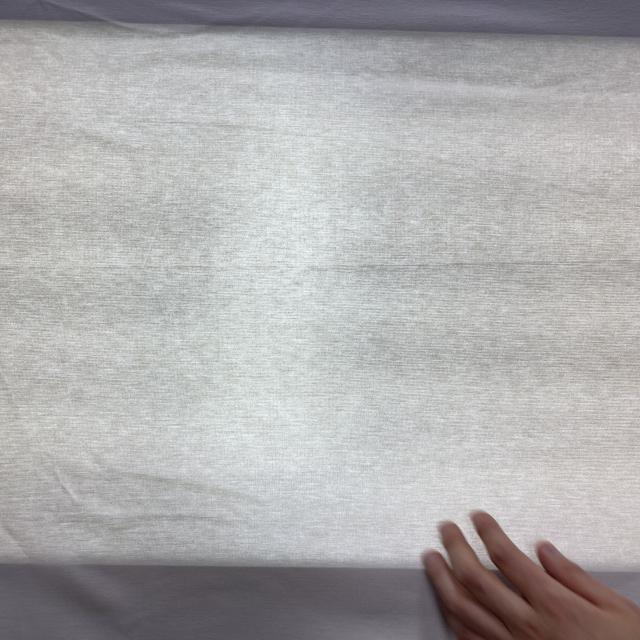broken_yarn: (133, 119, 584, 197), (80, 255, 640, 273)
